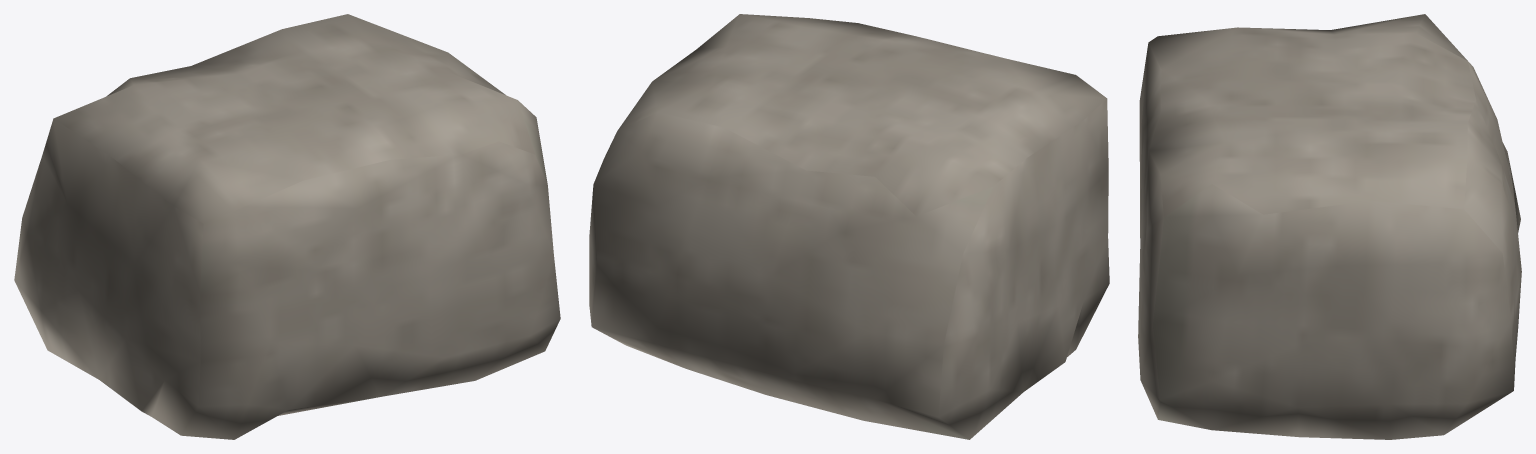
The model's file is rock-pebble.glb.
The picture shows the model from 3 angles, left to right: view 1: azimuth 30°, elevation 25°; view 2: azimuth 150°, elevation 25°; view 3: azimuth 270°, elevation 25°; orthographic projection.
Visible parts, largest first — view 1: Rock_Pebble; view 2: Rock_Pebble; view 3: Rock_Pebble.
Part boxes in pixels (x1,y1,x2,y2): Rock_Pebble: (14, 14, 560, 439); Rock_Pebble: (589, 14, 1109, 439); Rock_Pebble: (1138, 14, 1521, 439).
Size of the model in its own units: 0.2054 by 0.1341 by 0.1721.
Materials: 1 (1 with a texture image).
